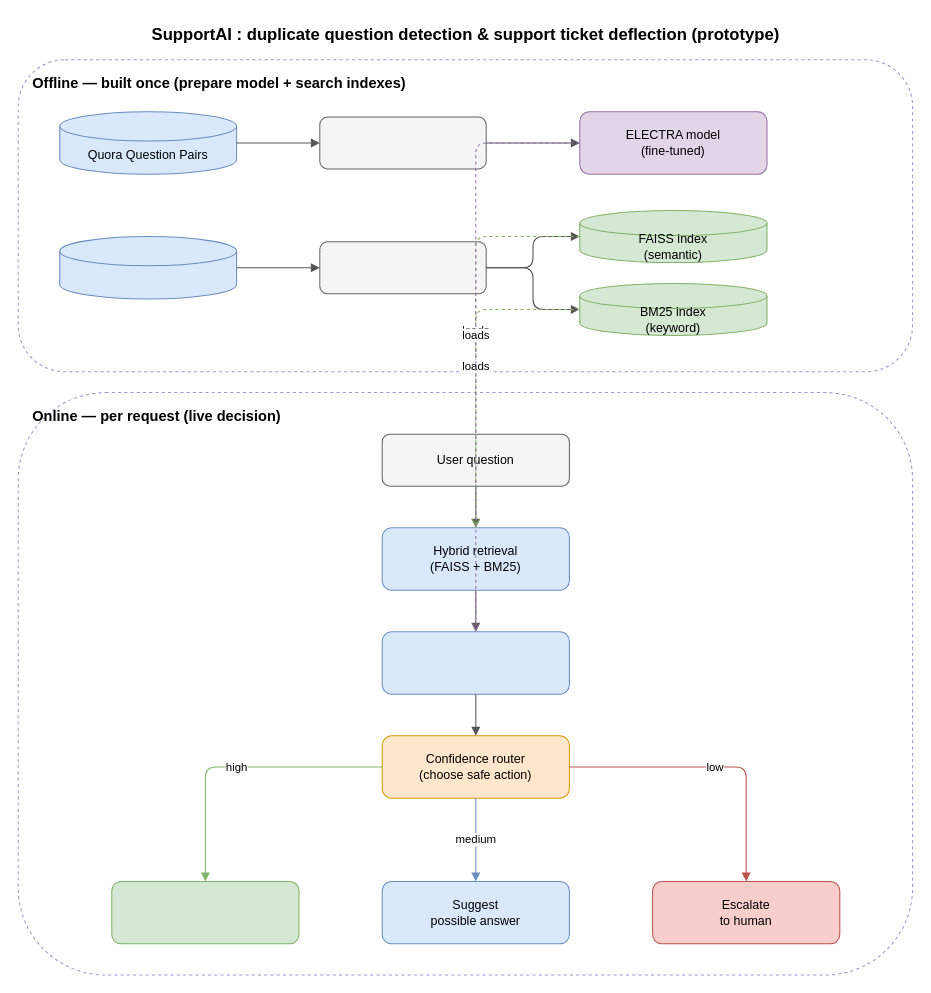
Some shapes in this 931 by 993 pixel diagram are drawn without their labels. Here are the shapes that lost their labels. From the top down, the box of each, then its label:
(319, 116, 486, 169): Fine tune classifier
(59, 236, 237, 299): Bitext support dataset
(319, 241, 486, 294): Build search indexes
(381, 631, 569, 694): ELECTRA reranker (duplicate confidence)
(111, 880, 299, 944): Answer automatically
